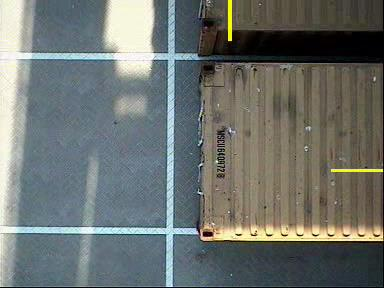groundmarker_2: (141, 51, 200, 88), (138, 198, 197, 235)
